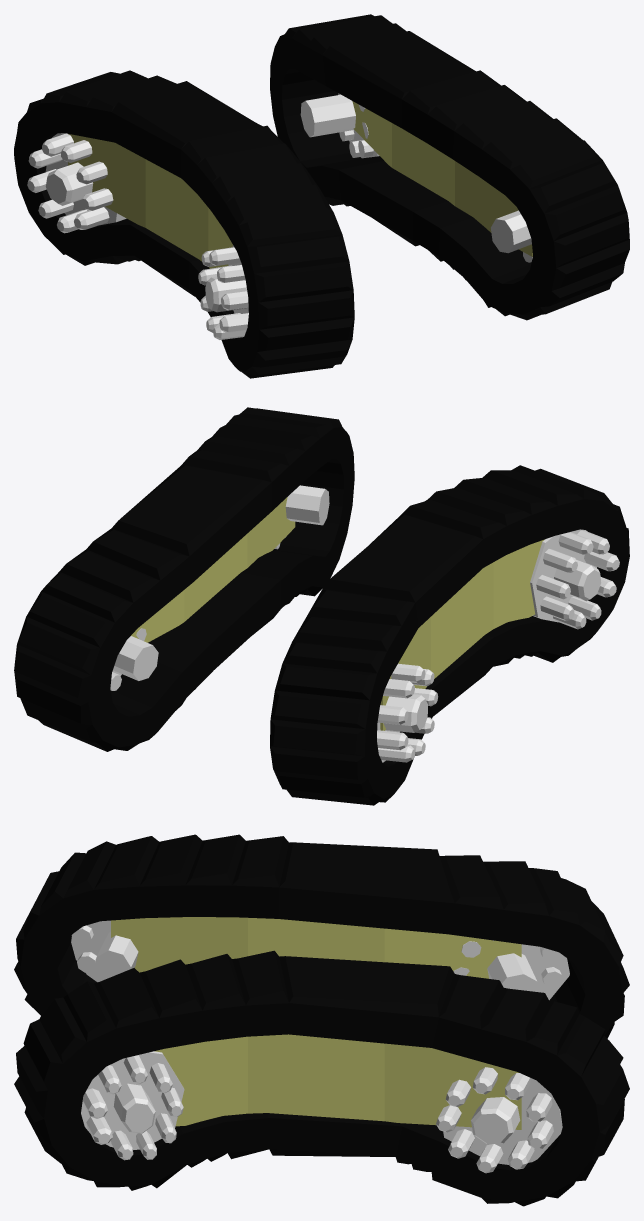
Rendered from caterpillar.fbx.
3 views of the same model, one above another, from view 1: azimuth 30°, elevation 25°; view 2: azimuth 150°, elevation 25°; view 3: azimuth 270°, elevation 25° (orthographic). The views are drawn at different scales.
Visible parts, largest first — view 1: caterpillars; view 2: caterpillars; view 3: caterpillars.
Part boxes in pixels (left/top/right/bottom): caterpillars: left=14, top=14, right=629, bottom=378; caterpillars: left=14, top=407, right=629, bottom=805; caterpillars: left=14, top=834, right=629, bottom=1206.
Size of the model in its own units: 552 by 259 by 683.
